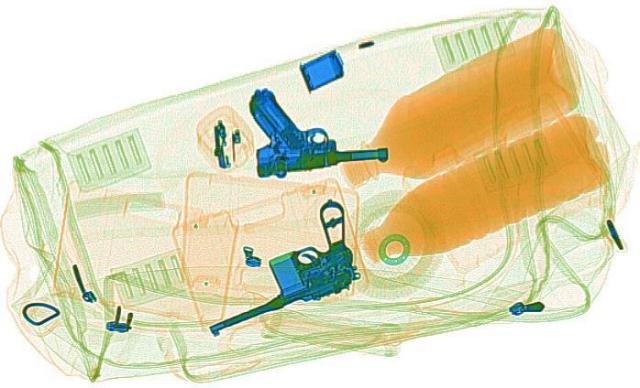Gun: (176, 197, 372, 330), (230, 79, 390, 178)
